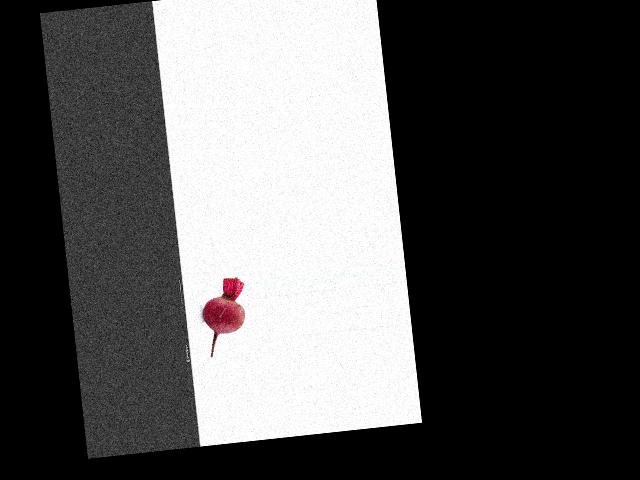beet: (199, 276, 250, 357)
